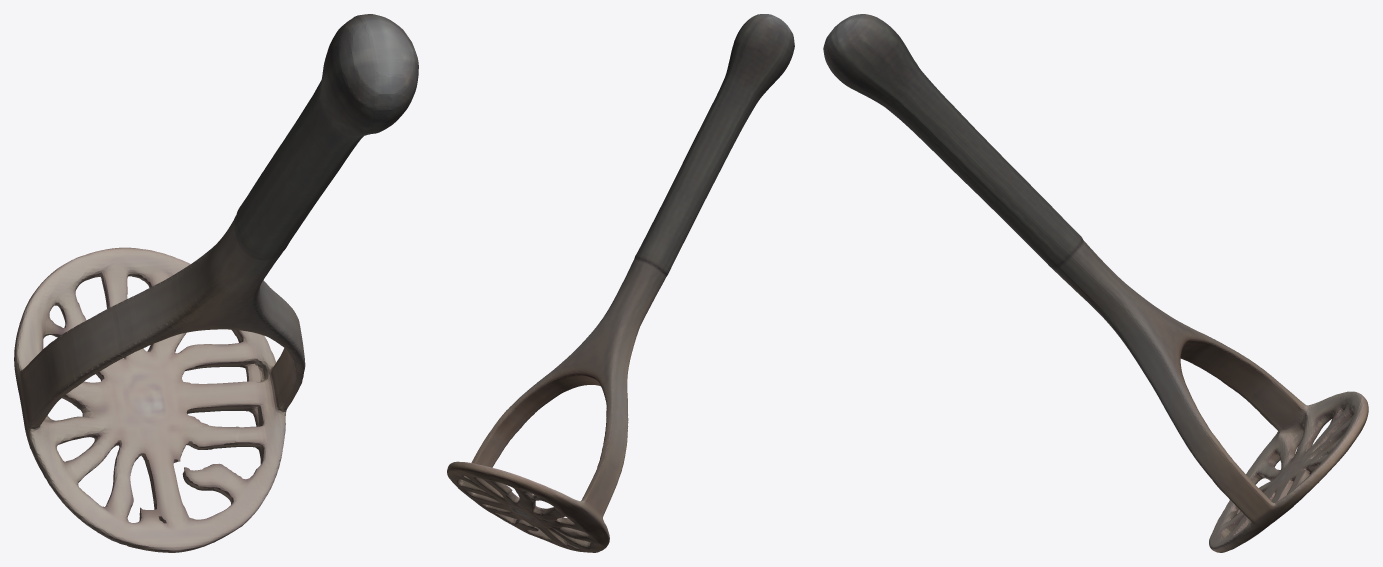
The model's file is frame_0087_source_000087_object.glb.
3 renders of one model, left to right at view 1: azimuth 30°, elevation 25°; view 2: azimuth 150°, elevation 25°; view 3: azimuth 270°, elevation 25°, orthographic. The views are drawn at different scales.
Parts seen in each view (by area): view 1: world; view 2: world; view 3: world.
Boxes of the visible parts, x1,y1,x2,y2 form: world: [14, 14, 418, 552]; world: [447, 14, 794, 552]; world: [823, 14, 1368, 552].
Bounding box in the file's own units: 0.0757 × 0.2123 × 0.21.
